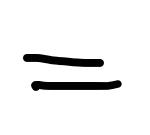eqv: (17, 50, 124, 93)
